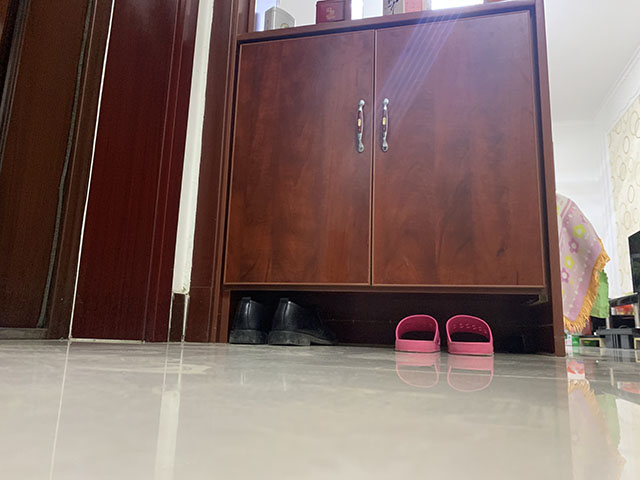cabinet: (183, 1, 568, 358)
slippers: (392, 311, 440, 357), (446, 313, 494, 359)
